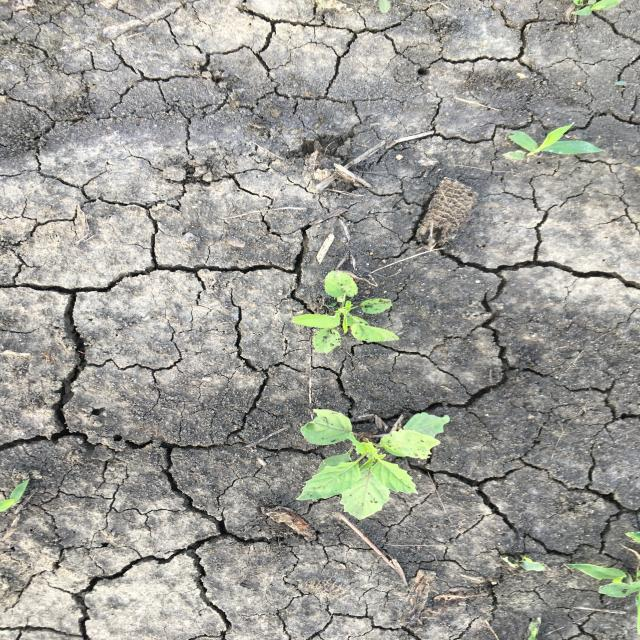CutleafGroundcherry: (294, 408, 452, 522)
PricklySida: (290, 268, 404, 356)
